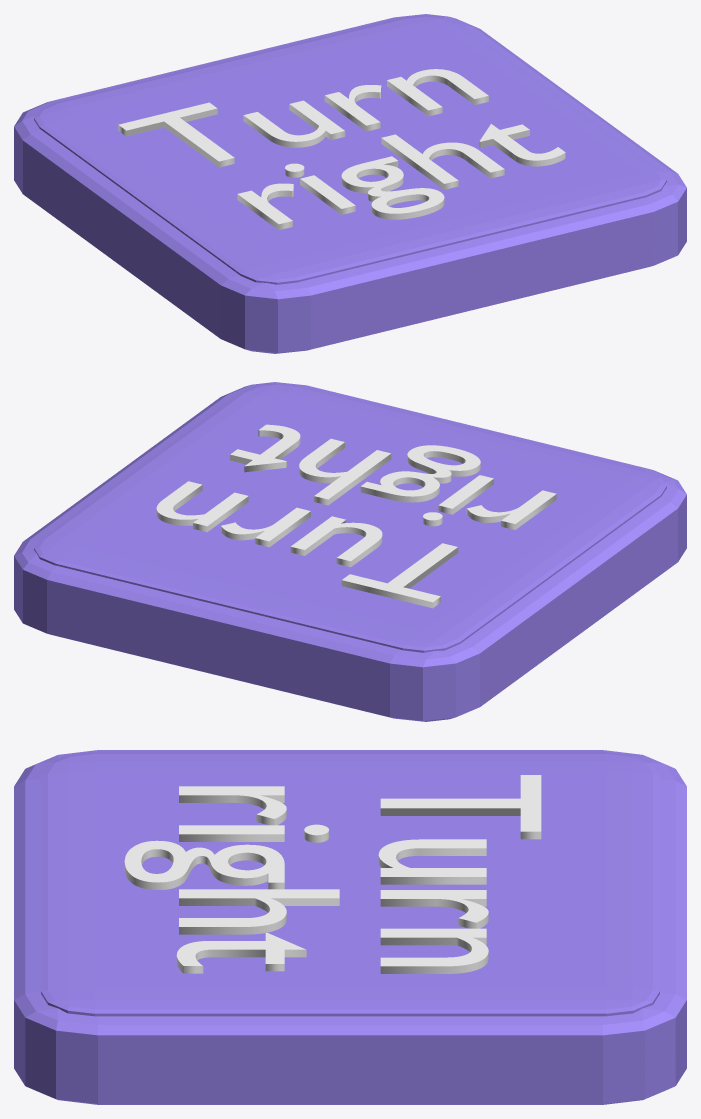
The model's file is turnright（改）.fbx.
3 renders of one model, top to bottom at view 1: azimuth 30°, elevation 25°; view 2: azimuth 150°, elevation 25°; view 3: azimuth 270°, elevation 25°, orthographic. The views are drawn at different scales.
Parts seen in each view (by area): view 1: 立方体.001, 立方体, right_Text, Turn_Text; view 2: 立方体.001, 立方体, right_Text, Turn_Text; view 3: 立方体.001, 立方体, right_Text, Turn_Text.
Part boxes in pixels (x1,y1,x2,y2): 立方体.001: (34,15,666,284); 立方体: (14,14,686,353); right_Text: (237,124,565,230); Turn_Text: (118,69,488,167); 立方体.001: (34,383,666,652); 立方体: (14,382,686,721); right_Text: (230,424,556,529); Turn_Text: (156,481,458,608); 立方体.001: (41,752,659,1016); 立方体: (14,750,686,1104); right_Text: (124,786,339,973); Turn_Text: (378,775,541,973).
Size of the model in its own units: 200 by 32.9 by 200.
